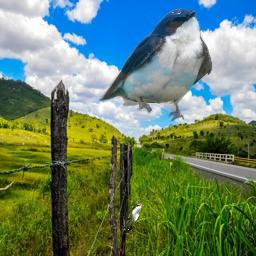Cuckoo: (123, 203, 145, 233)
Swallow: (99, 8, 213, 122)
